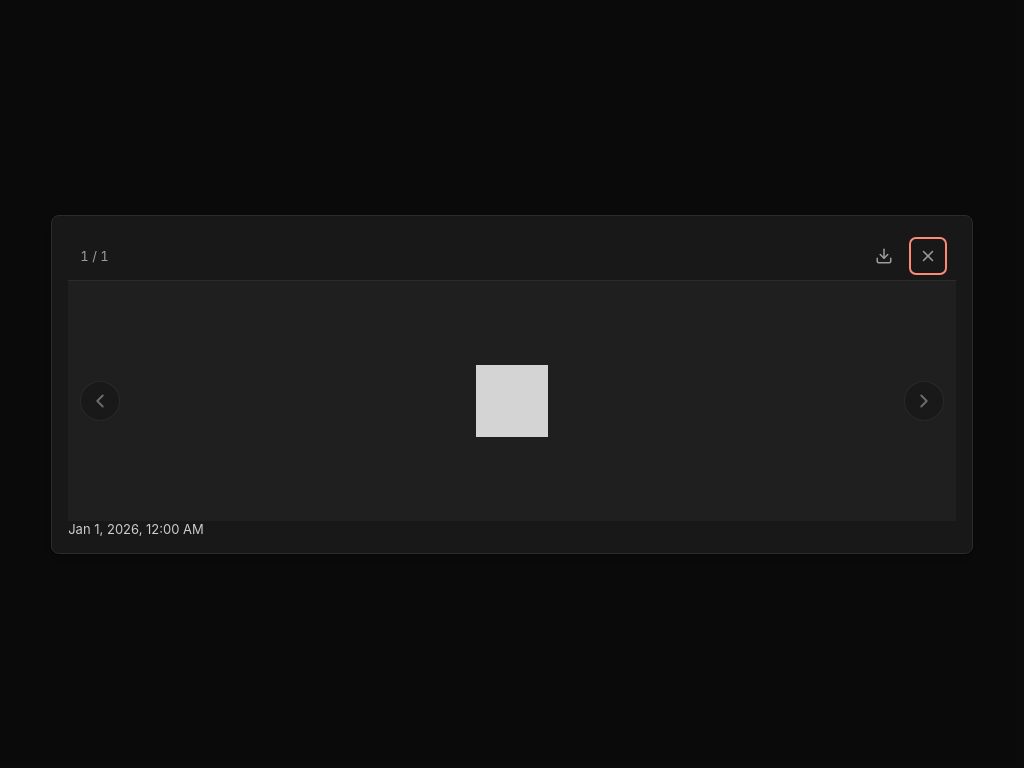
Test: MediaLightbox › keeps a loaded image visible when saving fails
Click the button named "Save image". click: [884, 256]
box: [868,240,900,272]
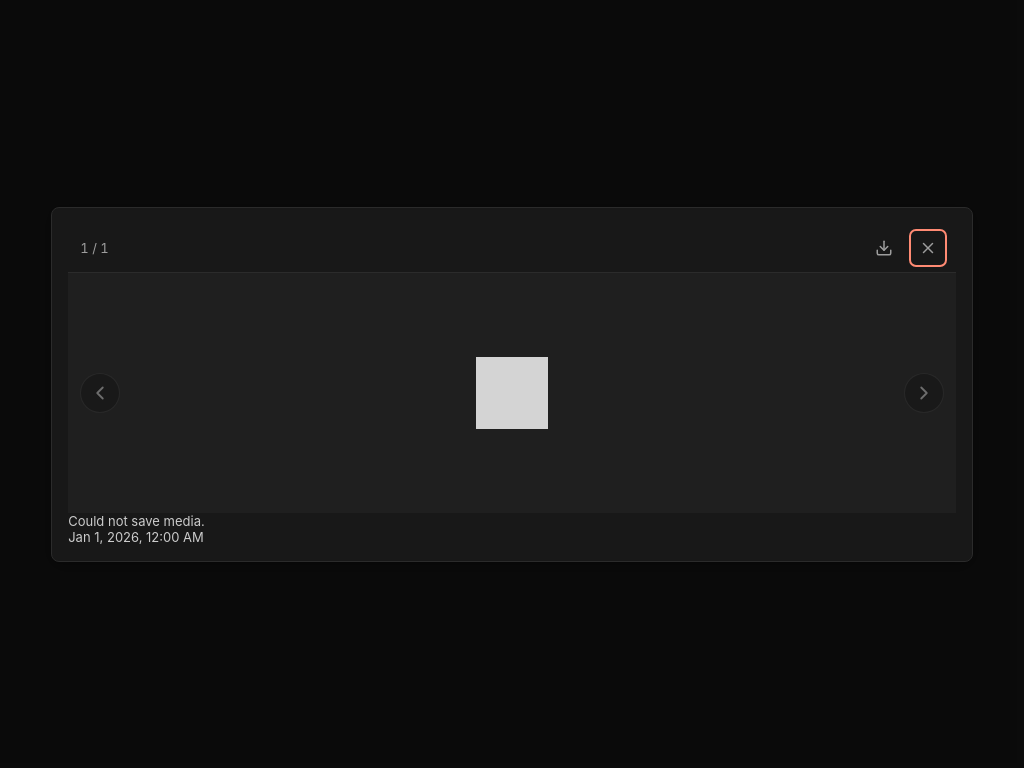
Expected: the message reads "Could not save media.", [68,512,205,528]
